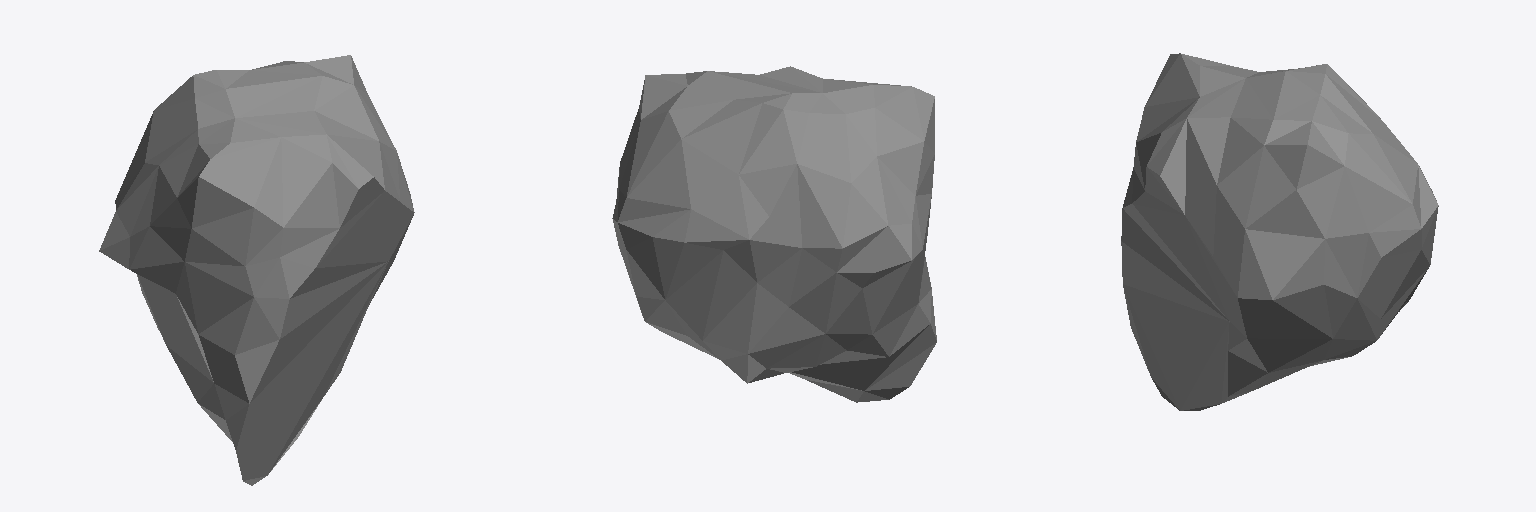
Rendered from marsrock2.obj.
The picture shows the model from 3 angles: view 1: azimuth 30°, elevation 25°; view 2: azimuth 150°, elevation 25°; view 3: azimuth 270°, elevation 25°; orthographic projection.
Parts seen in each view (by area): view 1: Cube_007_Cube_008; view 2: Cube_007_Cube_008; view 3: Cube_007_Cube_008.
Boxes of the visible parts, <box> form: Cube_007_Cube_008: <box>99,55,414,485</box>; Cube_007_Cube_008: <box>612,66,936,402</box>; Cube_007_Cube_008: <box>1121,53,1438,410</box>.
Size of the model in its own units: 1.75 by 1.93 by 1.59.